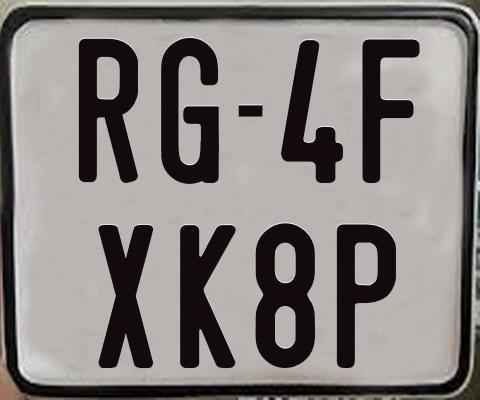4: (279, 40, 343, 187)
8: (253, 220, 315, 368)
F: (362, 37, 422, 187)
G: (160, 37, 222, 187)
K: (178, 224, 240, 371)
P: (334, 221, 395, 369)
R: (76, 37, 141, 183)
X: (95, 225, 154, 371)
